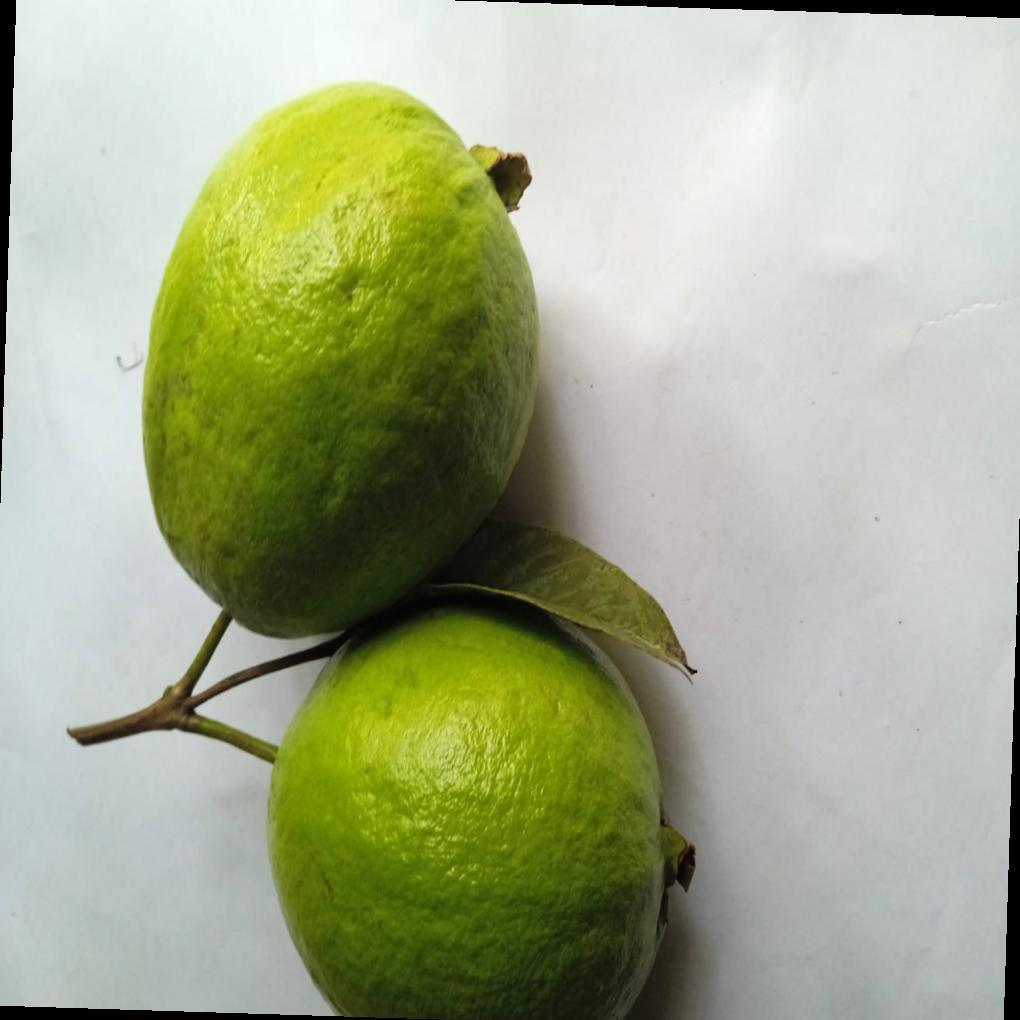FreshGuava: (66, 82, 695, 1020)
